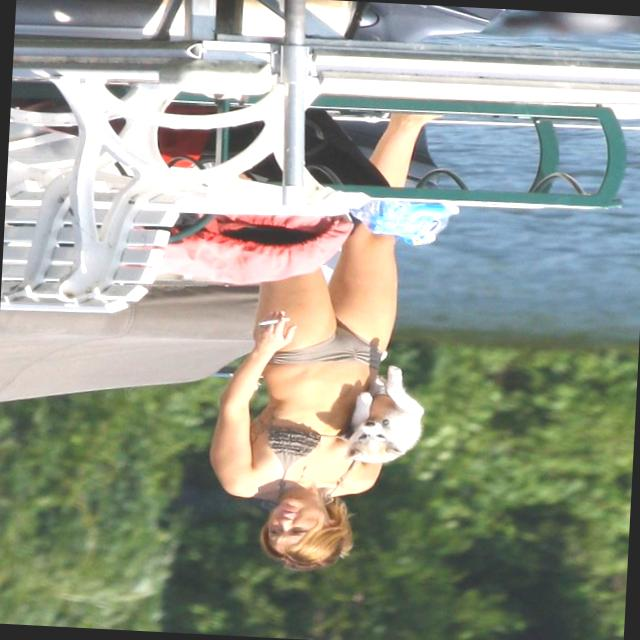cigarette: (250, 312, 296, 332)
